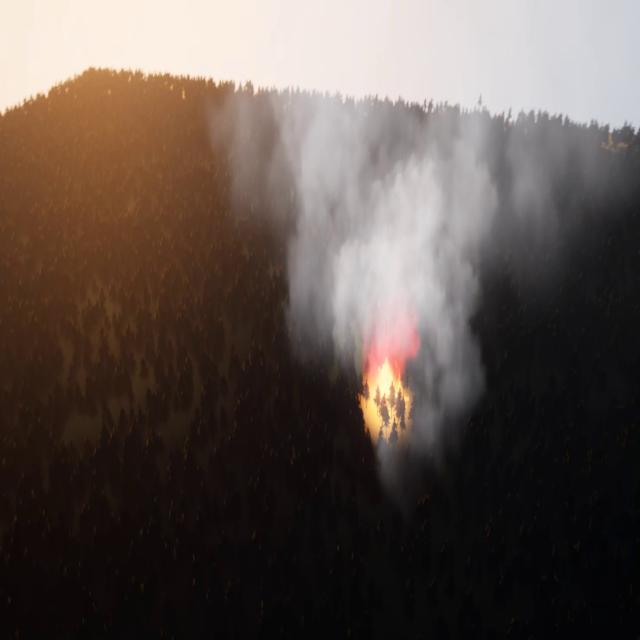fire: (364, 351, 410, 411)
smoke: (198, 68, 638, 486)
